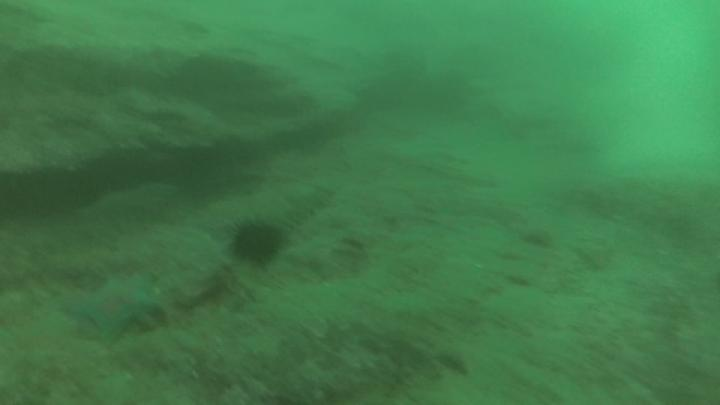echinus: (236, 221, 279, 263)
holothurian: (275, 192, 335, 230)
starfish: (70, 273, 163, 344)
